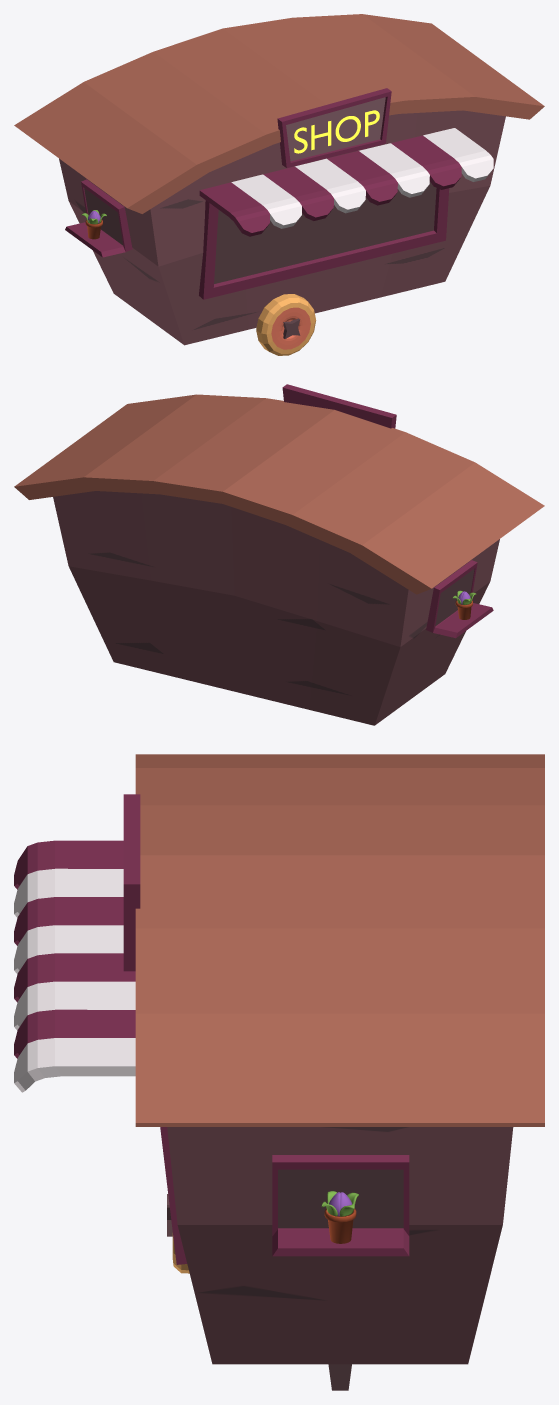
File: roadside_shop.fbx
3 views of the same model, one above another, from view 1: azimuth 30°, elevation 25°; view 2: azimuth 150°, elevation 25°; view 3: azimuth 270°, elevation 25° (orthographic). The views are drawn at different scales.
Visible parts, largest first — view 1: Cube.018; view 2: Cube.018; view 3: Cube.018.
Part boxes in pixels (x1,y1,x2,y2): Cube.018: (14,14,544,355); Cube.018: (14,384,544,725); Cube.018: (14,754,544,1390).
Bounding box in the file's own units: 807 × 472 × 491.
Materials: 14 (1 with a texture image).
